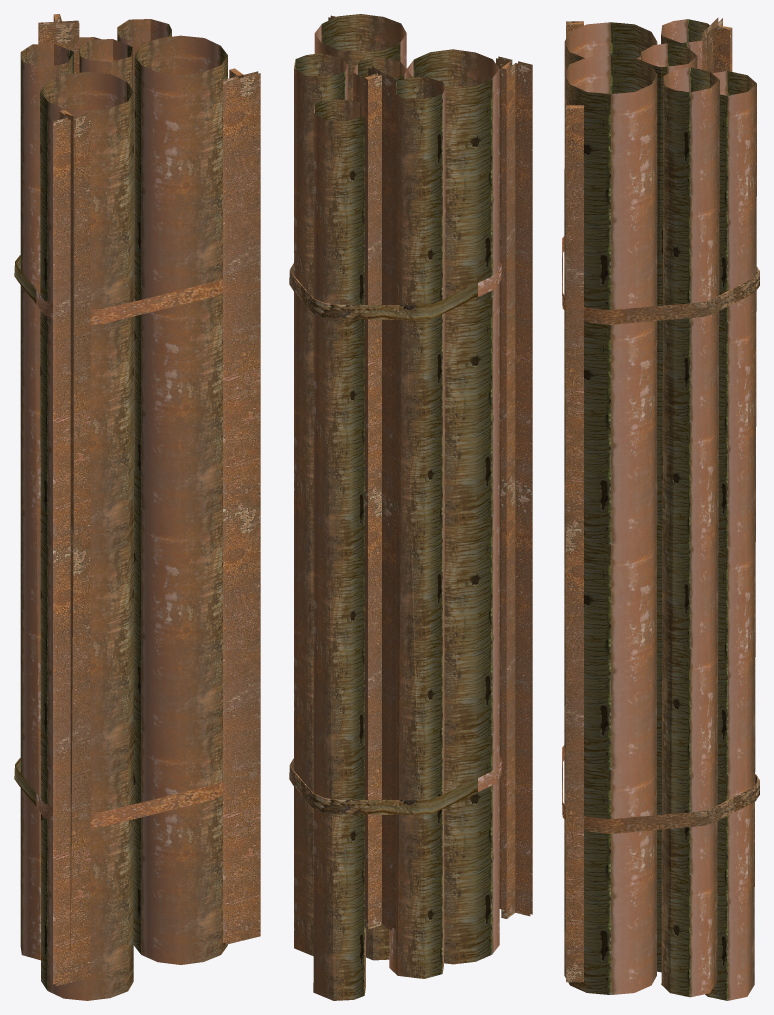
File: ind4_pipes_rusty_LOD2.fbx
The picture shows the model from 3 angles, left to right: view 1: azimuth 30°, elevation 25°; view 2: azimuth 150°, elevation 25°; view 3: azimuth 270°, elevation 25°; orthographic projection. The views are drawn at different scales.
Visible parts, largest first — view 1: Mesh Object (×3); view 2: Mesh Object (×3); view 3: Mesh Object (×3).
Boxes of the visible parts, x1,y1,x2,y2 form: Mesh Object (×3): (14,14,260,1000); Mesh Object (×3): (289,14,532,1000); Mesh Object (×3): (562,17,759,1000).
Size of the model in its own units: 4.82 by 4 by 20.98.
